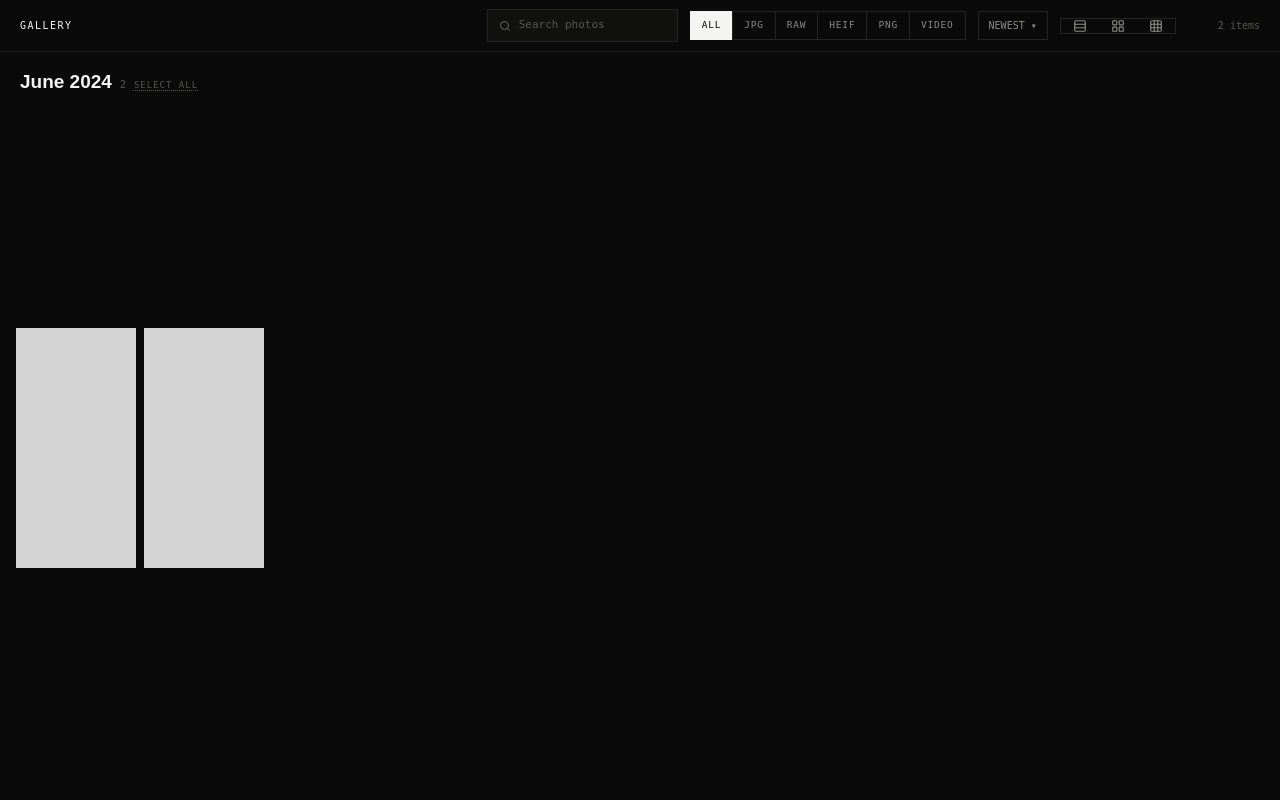
Scenario: opens the lightbox when a tile is clicked
This screenshot has width=1280, height=800.
Click the button named "photos/".
click(76, 448)  # box x1=16 y1=328 x2=136 y2=568
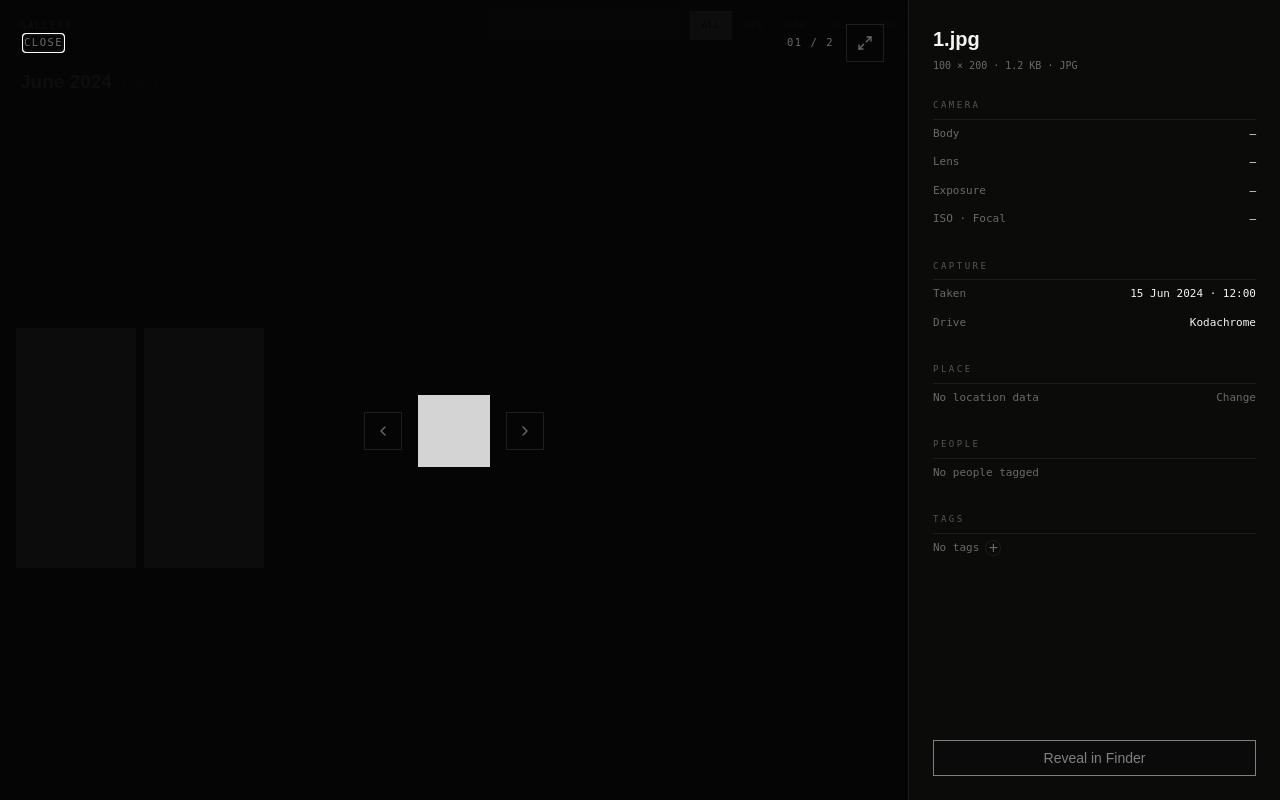
expect the text "01 / 2" is shown: met, box x1=787 y1=35 x2=834 y2=51
